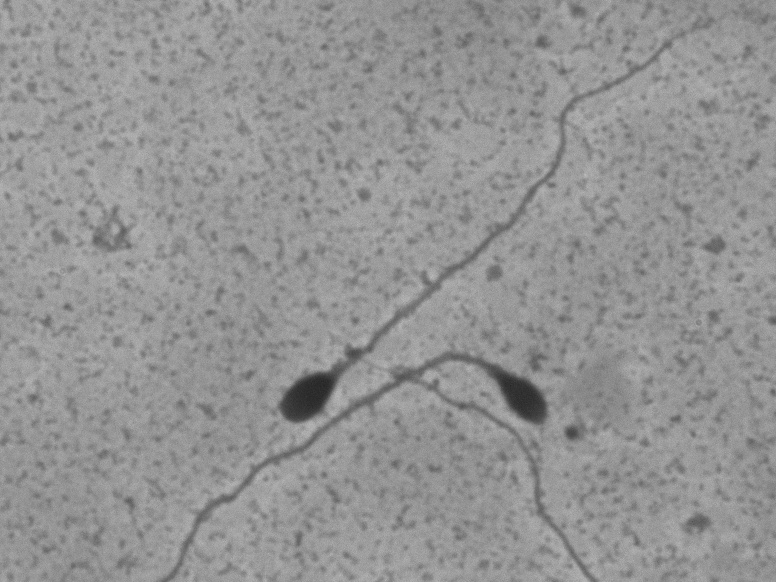Abnormal: (156, 341, 563, 578)
Normal: (253, 9, 723, 437)
